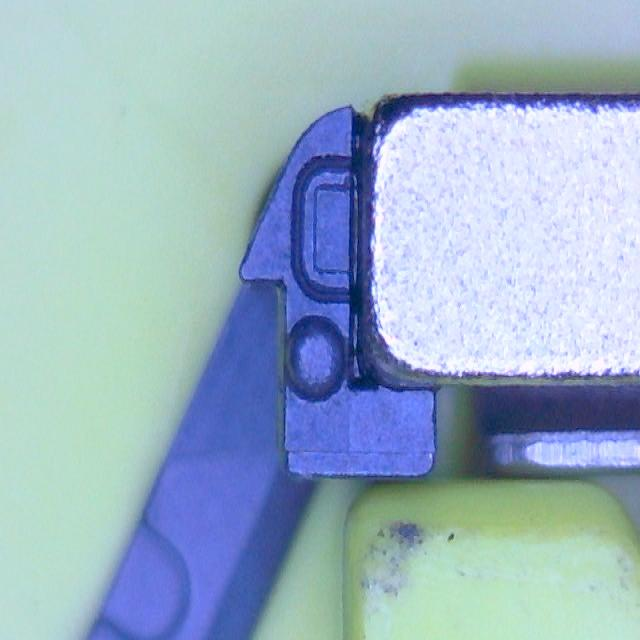lacking: (290, 153, 358, 307)
